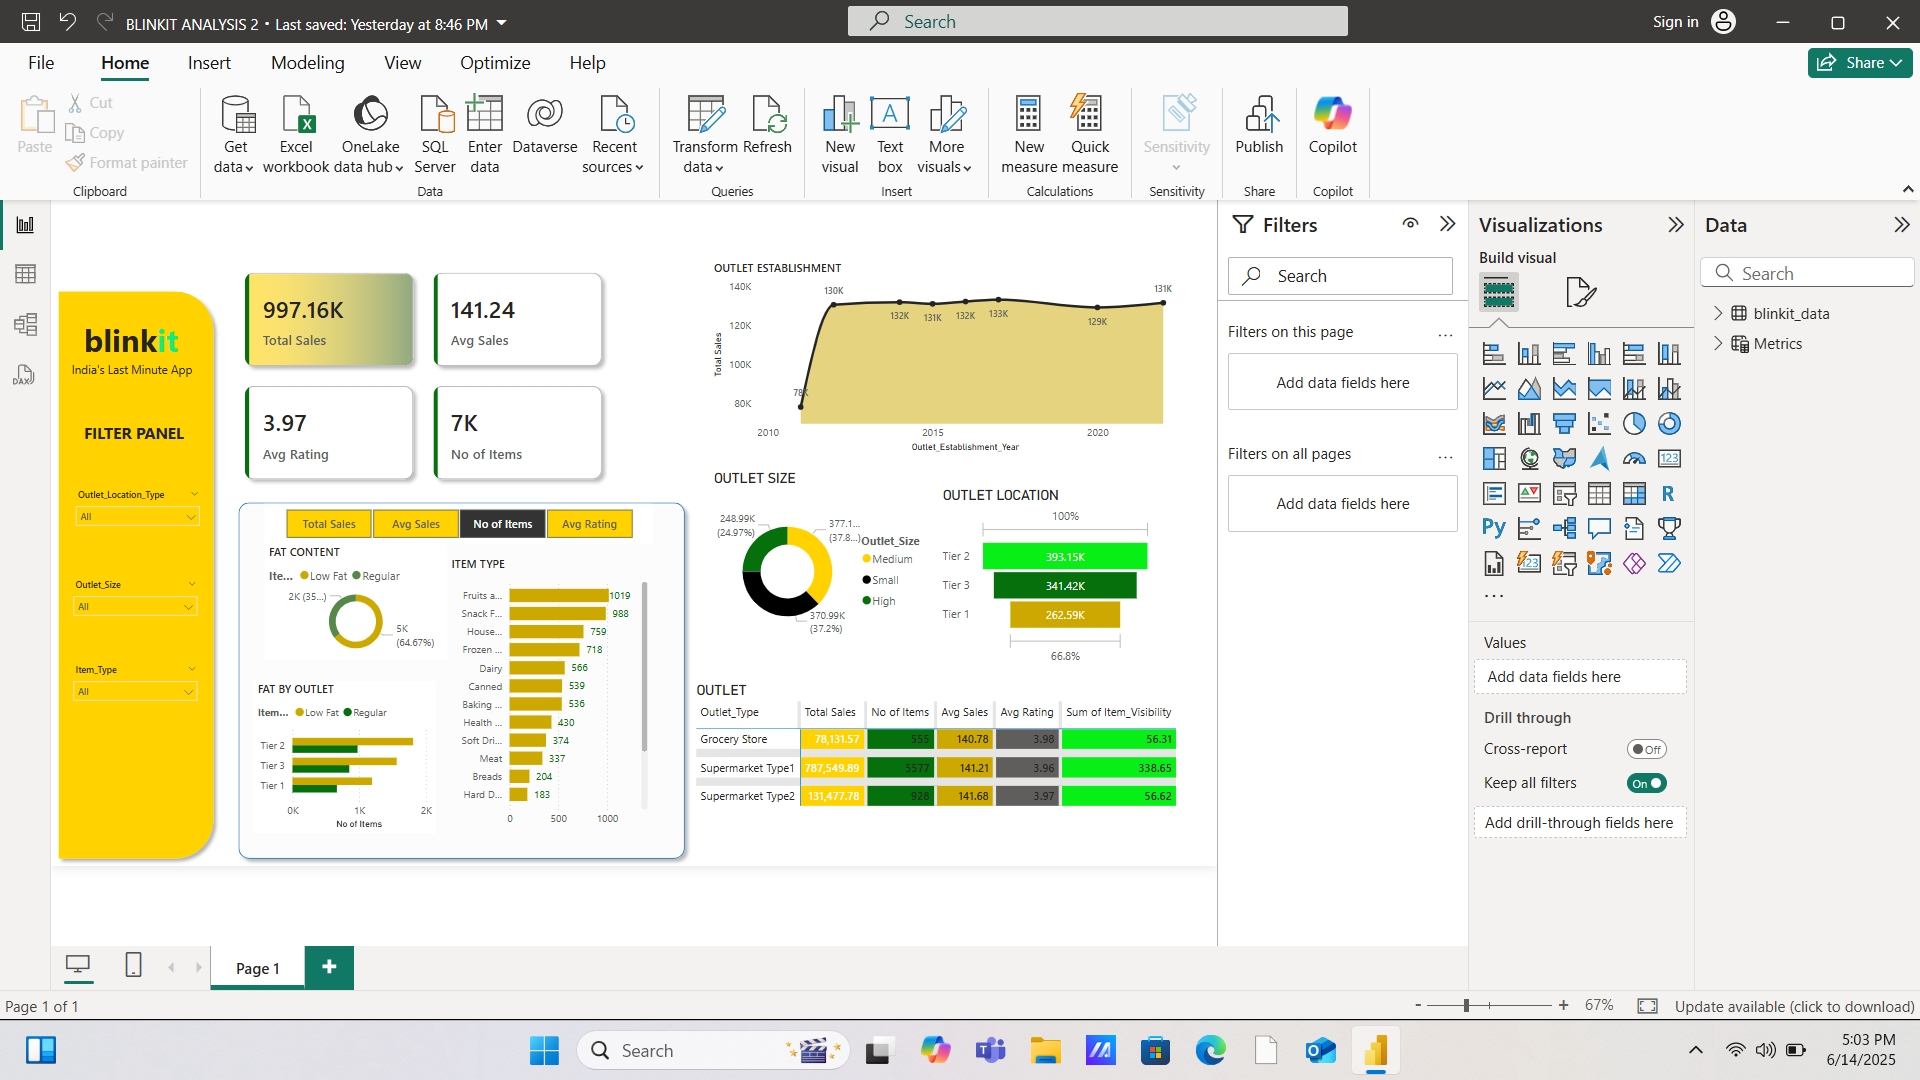

This screenshot's page, from the dashboard's own definition file:
{"tool":"powerbi","page":{"name":"Page 1","canvas":[1400,800],"ordinal":0},"visuals":[{"type":"shape","box":[0,100.6,204.1,699.4],"z":0},{"type":"textbox","box":[34.5,138.1,133.6,124.6],"z":1000},{"type":"textbox","box":[19.5,189.1,184.6,60],"z":2000},{"type":"cardVisual","fields":{"Data":["blinkit_data.Total Sales","blinkit_data.Avg Sales","blinkit_data.Avg Rating","blinkit_data.No of Items"]},"box":[216.1,70.5,463.8,283.7],"z":3000},{"type":"shape","box":[216.1,354.2,553.8,445.8],"z":4000},{"type":"donutChart","title":"FAT CONTENT","fields":{"Y":["blinkit_data.Avg Sales"],"Category":["blinkit_data.Item_Fat_Content"]},"box":[256.6,412.7,219.1,139.6],"z":5000},{"type":"slicer","fields":{"Values":["Metrics.Metrics"]},"box":[256.6,364.7,465.3,48],"z":6000},{"type":"clusteredBarChart","title":"FAT BY OUTLET ","fields":{"Y":["blinkit_data.Avg Sales"],"Category":["blinkit_data.Outlet_Location_Type"],"Series":["blinkit_data.Item_Fat_Content"]},"box":[243.1,577.8,219.1,183.1],"z":7000},{"type":"shape","box":[231.1,547.8,244.6,30],"z":8000},{"type":"barChart","title":"ITEM TYPE","fields":{"Y":["blinkit_data.Avg Sales"],"Category":["blinkit_data.Item_Type"]},"box":[475.8,427.7,246.1,333.2],"z":9000},{"type":"lineChart","title":"OUTLET ESTABLISHMENT","fields":{"Y":["blinkit_data.Total Sales"],"Category":["blinkit_data.Outlet_Establishment_Year"]},"box":[791,72,562.8,235.6],"z":10000},{"type":"donutChart","title":"OUTLET SIZE","fields":{"Y":["blinkit_data.Total Sales"],"Category":["blinkit_data.Outlet_Size"]},"box":[791,324.2,275,225],"z":11000},{"type":"funnel","title":"OUTLET LOCATION","fields":{"Y":["Sum(blinkit_data.Sales)"],"Category":["blinkit_data.Outlet_Location_Type"]},"box":[1065.6,343.7,261.2,219.1],"z":12000},{"type":"pivotTable","title":"OUTLET ","fields":{"Rows":["blinkit_data.Outlet_Type"],"Values":["blinkit_data.Total Sales","blinkit_data.No of Items","blinkit_data.Avg Sales","blinkit_data.Avg Rating","Sum(blinkit_data.Item_Visibility)"]},"box":[769.9,577.8,589.8,183.1],"z":13000},{"type":"slicer","fields":{"Values":["blinkit_data.Outlet_Location_Type"]},"box":[19.5,342.2,169.6,91.6],"z":14000},{"type":"slicer","fields":{"Values":["blinkit_data.Outlet_Size"]},"box":[16.5,450.3,169.6,91.6],"z":15000},{"type":"slicer","fields":{"Values":["blinkit_data.Item_Type"]},"box":[16.5,552.3,169.6,91.6],"z":16000},{"type":"textbox","box":[34.5,262.7,130.6,61.5],"z":17000}]}

Visuals, with their boxes on the page's 1400x800 design canvas (x1, y1, x2, y2). These are canvas units, not pixel positions in the 1920x1080 screenshot, which may show the page scaled, cropped or inside an application window:
shape: locate(0, 101, 204, 800)
textbox: locate(34, 138, 168, 263)
textbox: locate(20, 189, 204, 249)
cardVisual - blinkit_data.Total Sales x blinkit_data.Avg Sales: locate(216, 70, 680, 354)
shape: locate(216, 354, 770, 800)
"FAT CONTENT" donutChart: locate(257, 413, 476, 552)
slicer - Metrics.Metrics: locate(257, 365, 722, 413)
"FAT BY OUTLET " clusteredBarChart: locate(243, 578, 462, 761)
shape: locate(231, 548, 476, 578)
"ITEM TYPE" barChart: locate(476, 428, 722, 761)
"OUTLET ESTABLISHMENT" lineChart: locate(791, 72, 1354, 308)
"OUTLET SIZE" donutChart: locate(791, 324, 1066, 549)
"OUTLET LOCATION" funnel: locate(1066, 344, 1327, 563)
"OUTLET " pivotTable: locate(770, 578, 1360, 761)
slicer - blinkit_data.Outlet_Location_Type: locate(20, 342, 189, 434)
slicer - blinkit_data.Outlet_Size: locate(16, 450, 186, 542)
slicer - blinkit_data.Item_Type: locate(16, 552, 186, 644)
textbox: locate(34, 263, 165, 324)
